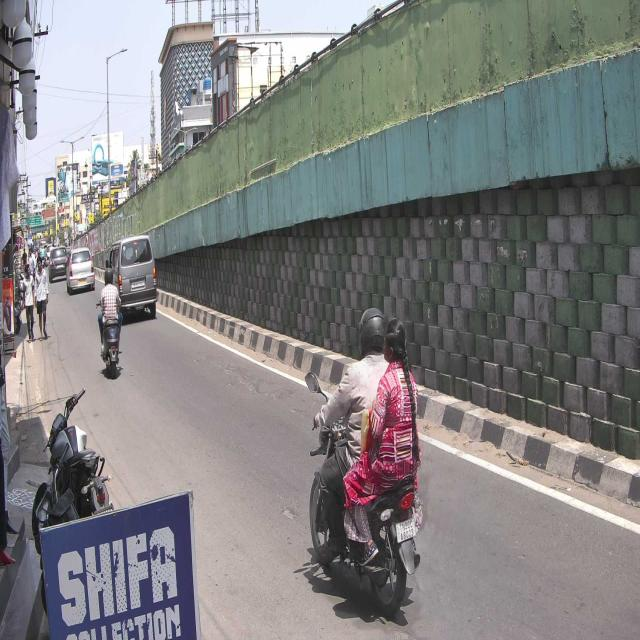double_rider: (305, 307, 423, 615)
